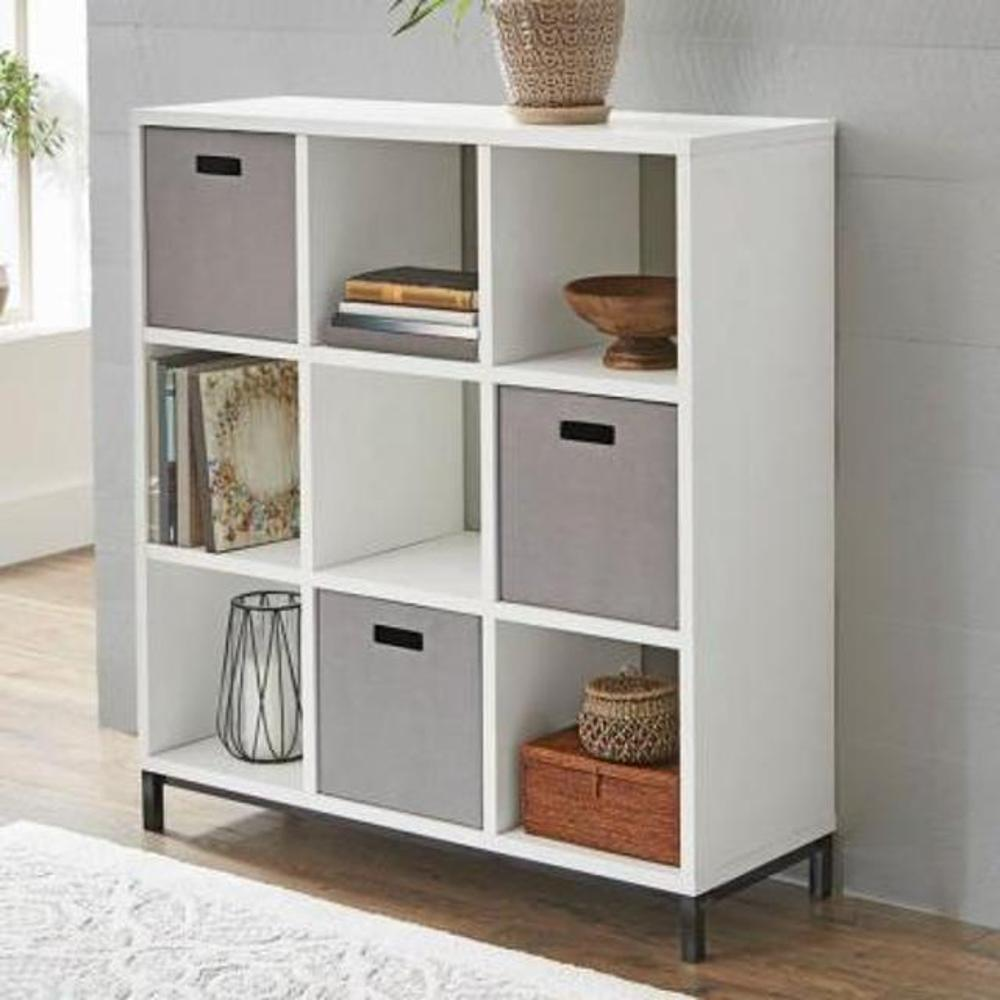lamp: (123, 90, 844, 966)
